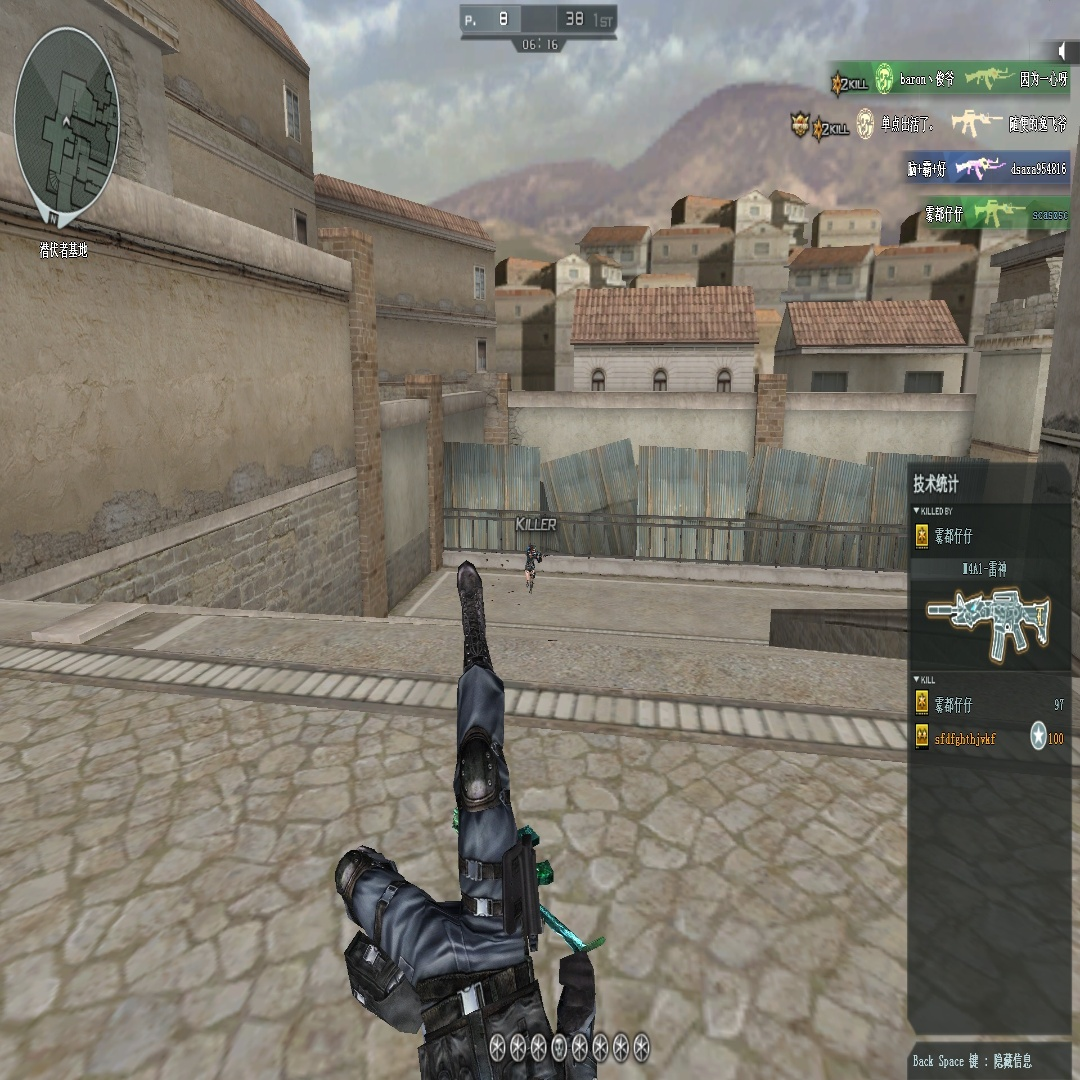p: (525, 543, 538, 592)
